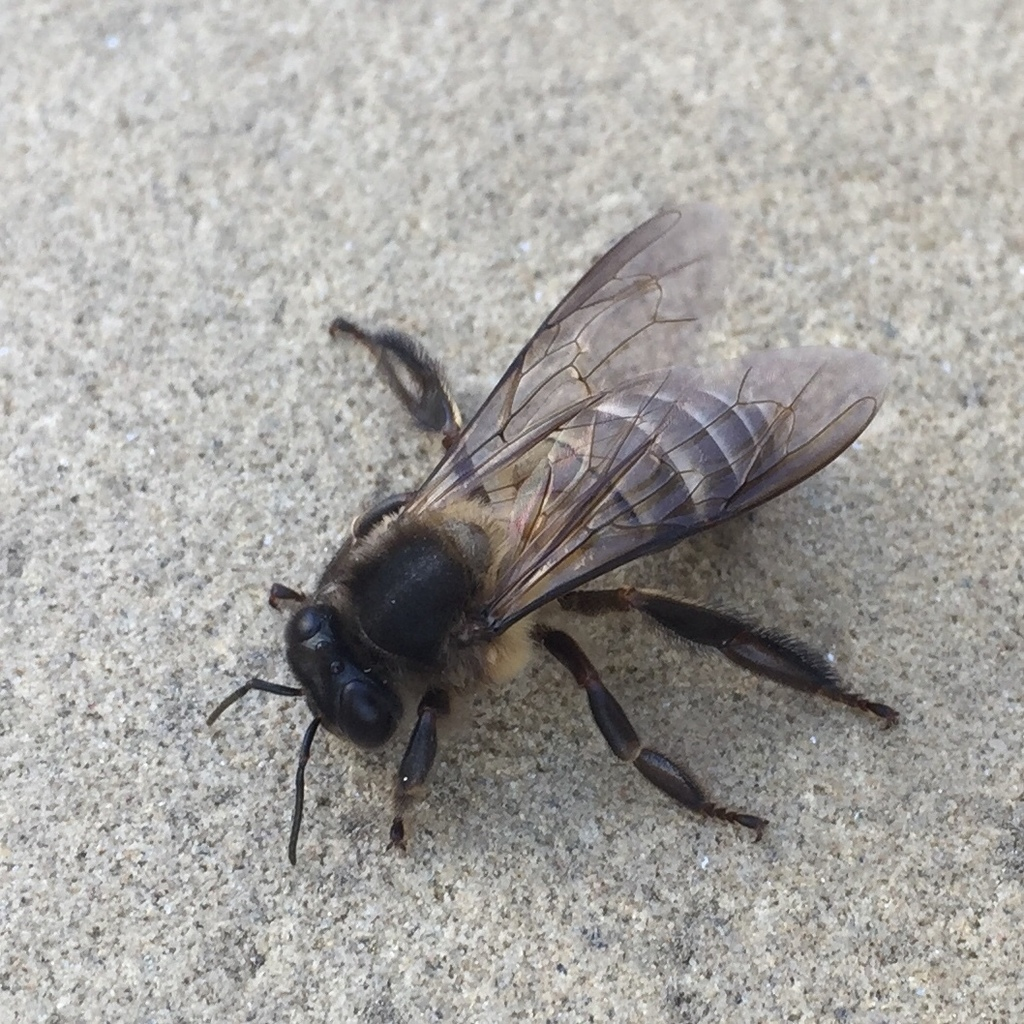not_bumblebee: (206, 203, 905, 866)
